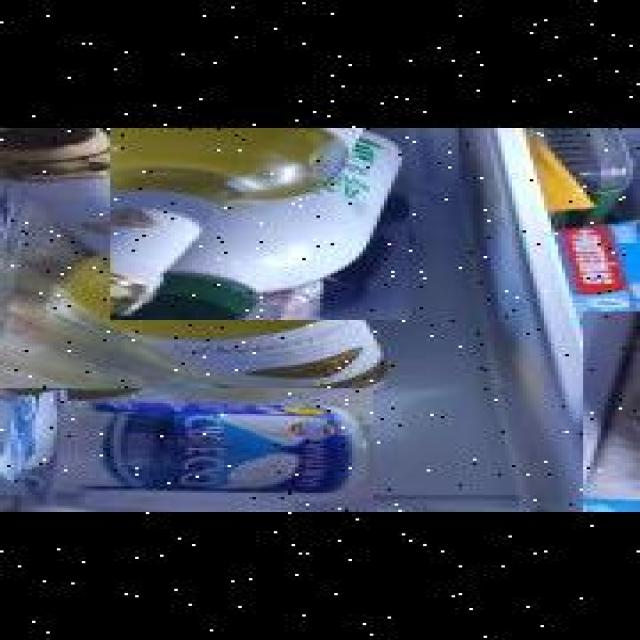bread: (579, 311, 640, 511)
cheese: (0, 256, 78, 444)
humus: (0, 128, 100, 228)
milk: (107, 128, 405, 320)
yogurt: (0, 388, 366, 512)
